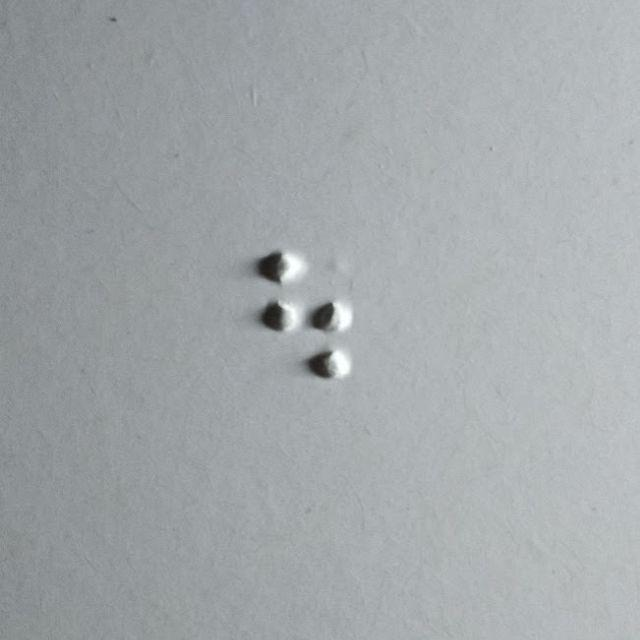tunay: (261, 249, 352, 377)
